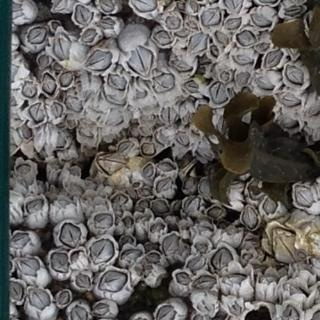Barnacle: (271, 229, 306, 267), (96, 140, 135, 174), (128, 45, 153, 77), (90, 239, 115, 267), (98, 270, 128, 291), (84, 50, 112, 72), (60, 223, 83, 249), (53, 32, 71, 62), (211, 247, 234, 270), (29, 287, 50, 309), (188, 33, 210, 54), (15, 258, 41, 275), (294, 186, 315, 207), (51, 252, 70, 275), (241, 204, 258, 229), (75, 4, 95, 25), (162, 233, 181, 255), (201, 8, 223, 27), (210, 82, 227, 106), (42, 72, 58, 97), (154, 72, 176, 90), (29, 102, 46, 125), (276, 92, 301, 107), (263, 50, 285, 67), (193, 275, 219, 289), (247, 178, 265, 198), (154, 30, 175, 47), (129, 0, 158, 12), (182, 195, 200, 214), (28, 27, 46, 46), (107, 73, 127, 90), (25, 198, 44, 215), (282, 115, 301, 132), (105, 109, 122, 128), (161, 105, 177, 125), (63, 95, 83, 111), (236, 30, 256, 46), (8, 280, 23, 301), (154, 306, 176, 320), (95, 212, 112, 230), (21, 81, 39, 98), (285, 65, 302, 83), (262, 195, 277, 215), (196, 145, 212, 163), (284, 283, 306, 296), (72, 246, 87, 265), (12, 232, 29, 248), (280, 305, 298, 320), (251, 14, 270, 28), (187, 257, 207, 270), (82, 28, 98, 44), (165, 15, 181, 31), (259, 271, 278, 284), (172, 58, 191, 71), (71, 305, 87, 320), (75, 274, 91, 289), (122, 249, 142, 261), (59, 71, 74, 87), (223, 0, 243, 12), (206, 207, 223, 221), (156, 130, 169, 148), (224, 273, 245, 284), (201, 178, 212, 199), (234, 52, 253, 64), (156, 177, 171, 192), (54, 132, 68, 148), (49, 103, 63, 119), (185, 79, 199, 95), (235, 70, 251, 84), (100, 18, 116, 32), (226, 17, 243, 30), (285, 5, 303, 17), (95, 303, 110, 317), (199, 299, 214, 313), (141, 142, 156, 156), (152, 200, 168, 213), (215, 29, 228, 45), (36, 146, 48, 163), (81, 191, 103, 200), (175, 271, 190, 284), (175, 131, 188, 146), (53, 0, 68, 13), (99, 0, 115, 12), (310, 97, 320, 116), (15, 163, 32, 174), (158, 161, 175, 172), (194, 242, 208, 255), (38, 54, 52, 67), (64, 113, 75, 129), (77, 116, 96, 125), (86, 200, 107, 208), (146, 252, 161, 263), (112, 195, 127, 206), (184, 175, 195, 190), (121, 216, 135, 227), (188, 0, 199, 14), (197, 225, 214, 234), (229, 302, 242, 313), (69, 183, 82, 194), (142, 164, 153, 177), (310, 257, 320, 271), (138, 188, 152, 198), (79, 128, 93, 138), (222, 227, 237, 236), (58, 292, 69, 304), (21, 126, 32, 138), (219, 71, 231, 82), (187, 20, 199, 31), (151, 222, 164, 232), (137, 214, 151, 223), (137, 200, 149, 210), (62, 152, 74, 162), (177, 28, 189, 38), (69, 168, 82, 177), (59, 200, 73, 208), (211, 44, 219, 58), (139, 126, 150, 136), (182, 112, 192, 123), (259, 41, 270, 51), (143, 265, 152, 277), (51, 161, 62, 170), (122, 237, 134, 245), (244, 251, 253, 260), (192, 130, 200, 139), (182, 223, 192, 230), (132, 180, 141, 187), (135, 266, 141, 273)
